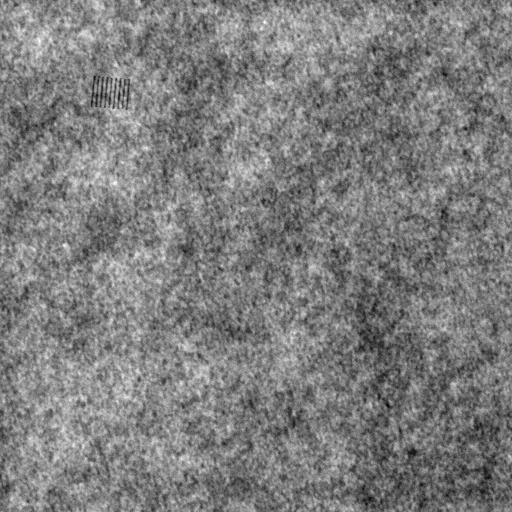DefectTypeB: (91, 74, 130, 108)
